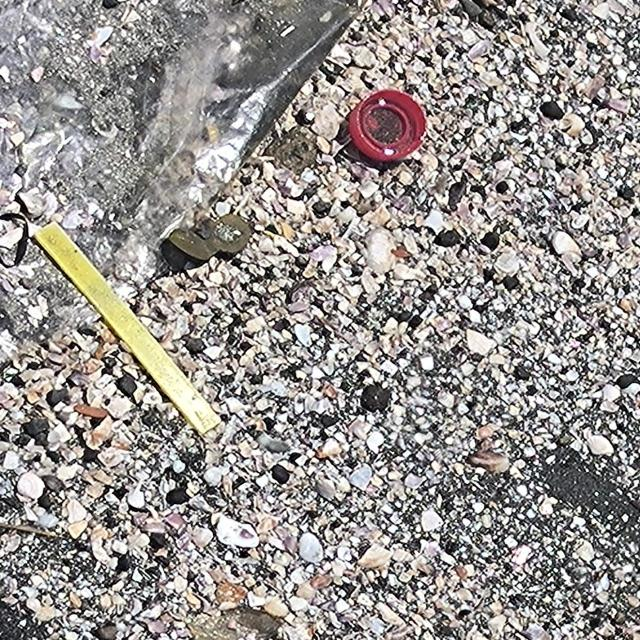plastic_waste: (32, 220, 225, 440), (346, 88, 426, 162)
